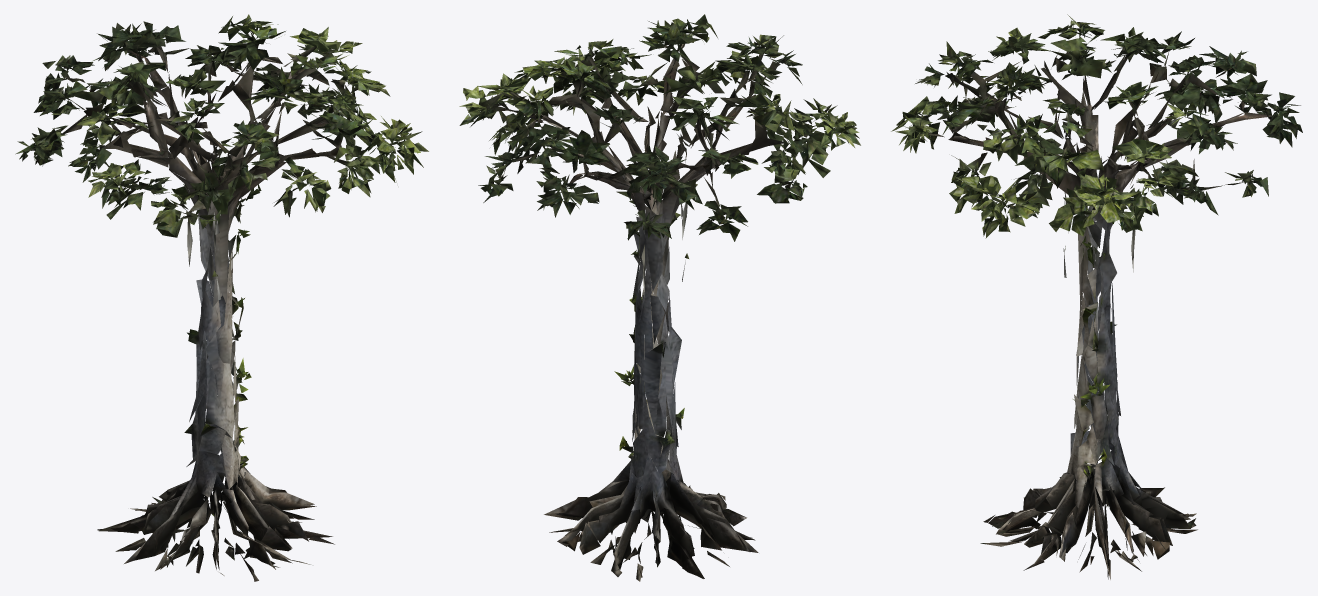
Rendered from jungle_tree_LOD2.fbx.
The picture shows the model from 3 angles, left to right: view 1: azimuth 30°, elevation 25°; view 2: azimuth 150°, elevation 25°; view 3: azimuth 270°, elevation 25°; orthographic projection. The views are drawn at different scales.
Visible parts, largest first — view 1: jungle_tree.001; view 2: jungle_tree.001; view 3: jungle_tree.001.
Boxes of the visible parts, x1,y1,x2,y2 form: jungle_tree.001: [15, 14, 428, 581]; jungle_tree.001: [459, 14, 860, 581]; jungle_tree.001: [891, 14, 1302, 579].
Bounding box in the file's own units: 13.7 × 18.09 × 14.15.
1 material, 1 textured.
